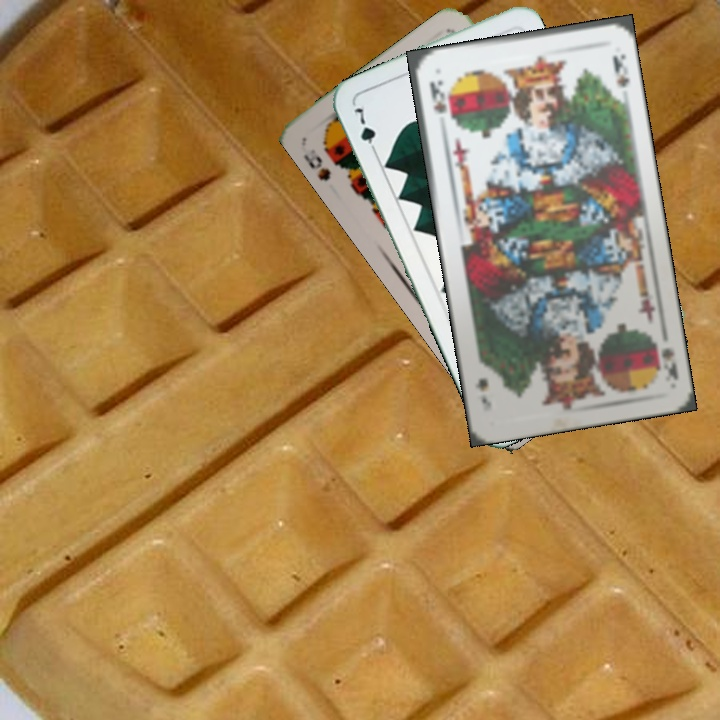G7: (349, 103, 381, 158)
S8: (299, 150, 334, 184)
SK: (425, 76, 449, 116), (657, 344, 681, 383)
